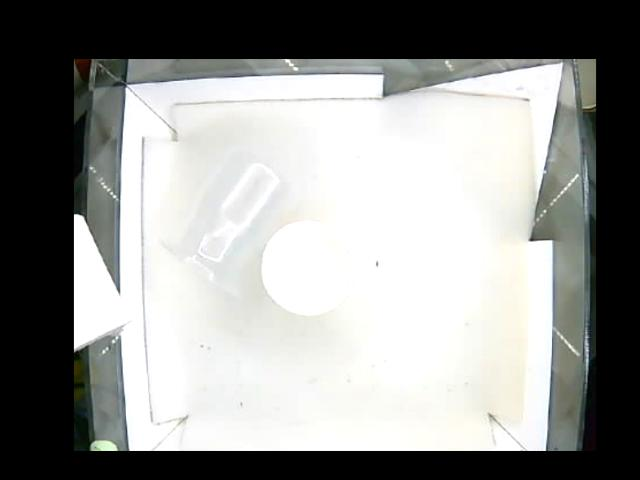Bottle: (166, 154, 281, 290)
Cup: (259, 219, 355, 318)
